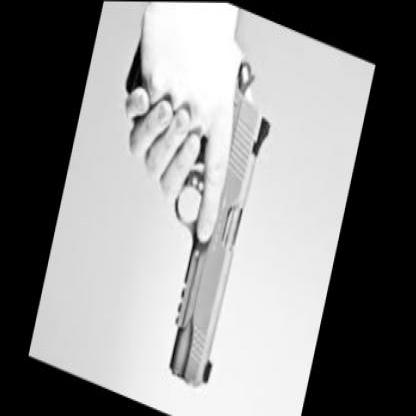pistol: (68, 1, 300, 400)
